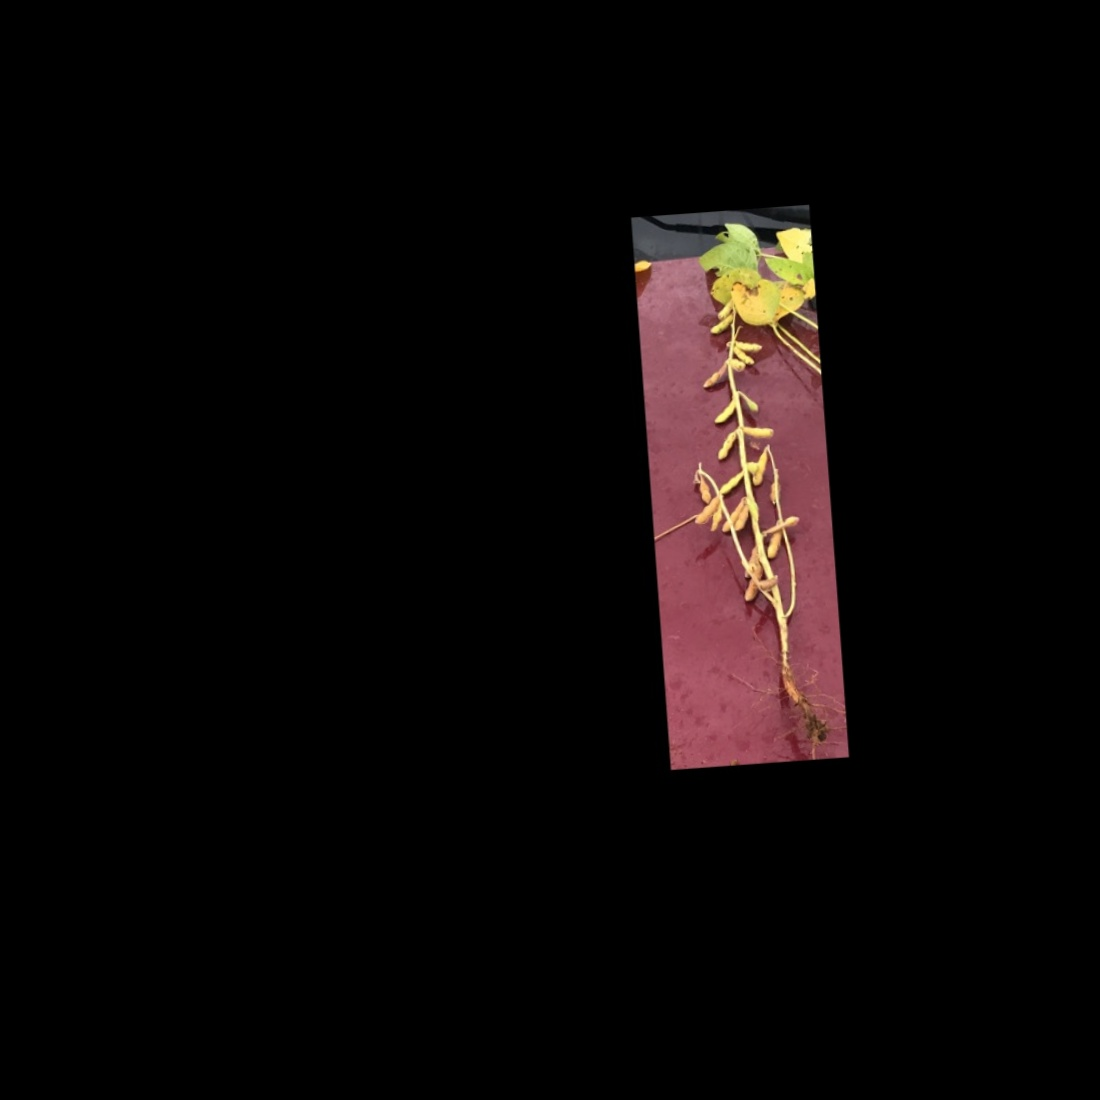pod: (710, 426, 741, 464), (709, 392, 738, 427), (691, 493, 721, 526), (705, 310, 738, 337), (712, 471, 746, 498), (742, 420, 784, 441), (727, 342, 758, 368), (730, 502, 751, 535), (732, 338, 762, 354)
soy: (640, 213, 837, 749)
